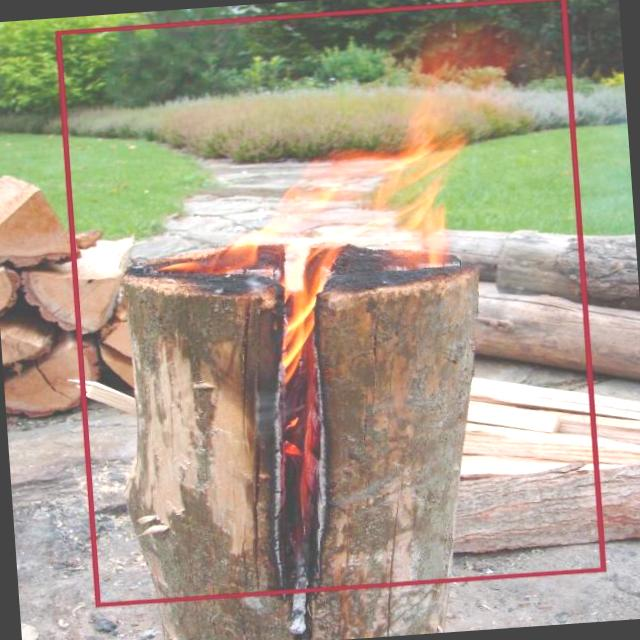fire: (55, 0, 606, 605)
